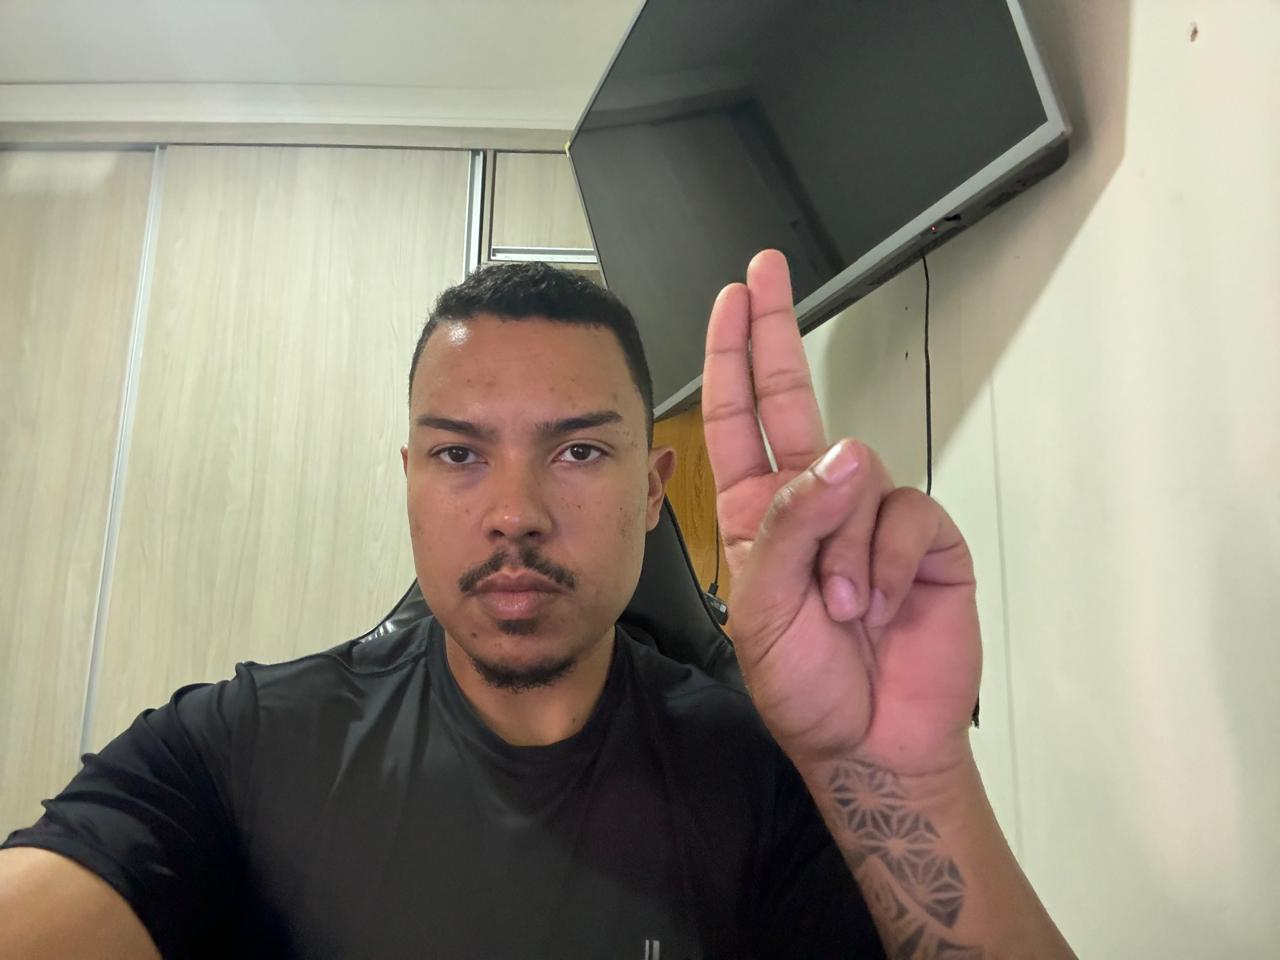u: (691, 237, 1005, 787)
